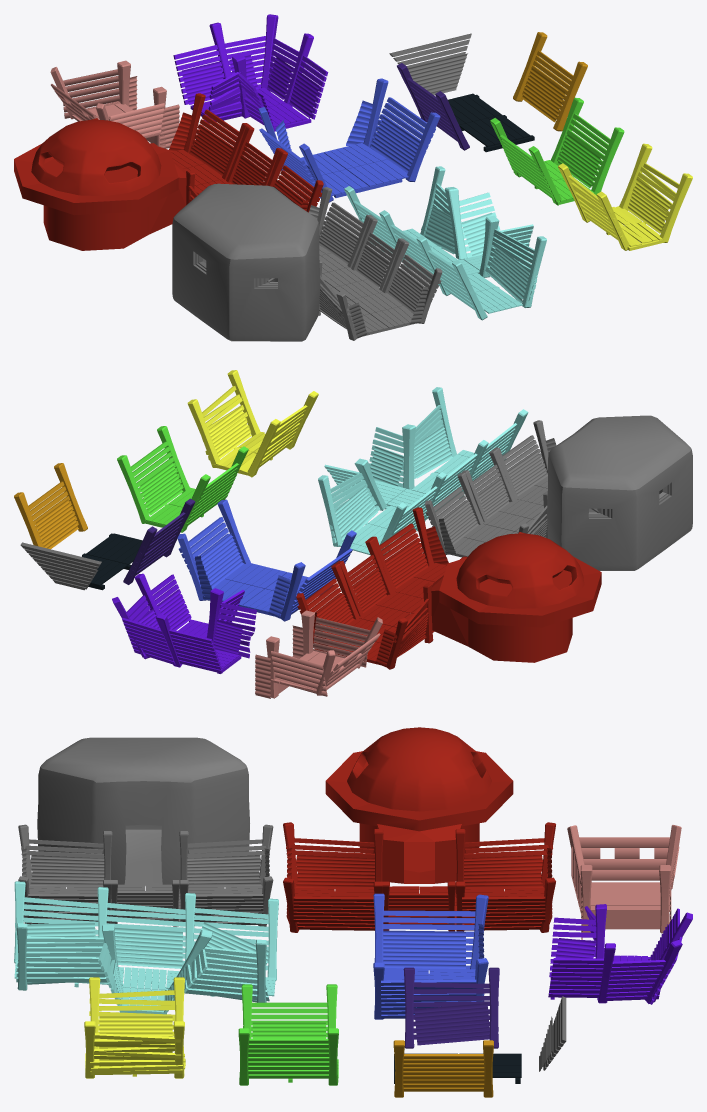
The model's file is Trench set.fbx.
3 views of the same model, one above another, from view 1: azimuth 30°, elevation 25°; view 2: azimuth 150°, elevation 25°; view 3: azimuth 270°, elevation 25° (orthographic). The views are drawn at different scales.
Visible parts, largest first — view 1: Object359, Sphere002, Object173, Object198, Box108, Box019, Plane011, Object204, Plane007, Plane015, Box092, Box088; view 2: Object359, Sphere002, Object173, Object198, Box108, Object204, Box019, Plane011, Plane007, Plane015, Box088, Box092; view 3: Object359, Sphere002, Object173, Box108, Object204, Object198, Box019, Plane011, Box088, Plane007, Plane015, Box092.
Part boxes in pixels (<box>): Object359: <box>172,183,442,341</box>; Sphere002: <box>14,93,323,250</box>; Object173: <box>344,166,546,320</box>; Object198: <box>173,14,328,131</box>; Box108: <box>258,78,440,202</box>; Box019: <box>558,143,692,250</box>; Plane011: <box>490,97,624,205</box>; Object204: <box>50,60,179,148</box>; Plane007: <box>513,32,587,131</box>; Plane015: <box>389,33,471,95</box>; Box092: <box>448,93,534,152</box>; Box088: <box>397,63,469,150</box>; Object359: <box>424,415,692,570</box>; Sphere002: <box>296,507,601,669</box>; Object173: <box>318,387,528,555</box>; Object198: <box>112,573,256,673</box>; Box108: <box>177,499,356,621</box>; Object204: <box>255,610,382,698</box>; Box019: <box>187,370,318,477</box>; Plane011: <box>117,426,248,532</box>; Plane007: <box>14,463,87,549</box>; Plane015: <box>20,542,101,590</box>; Box088: <box>123,498,195,584</box>; Box092: <box>82,533,142,590</box>; Object359: <box>18,737,273,926</box>; Sphere002: <box>283,727,555,932</box>; Object173: <box>14,881,278,1014</box>; Box108: <box>373,893,488,1019</box>; Object204: <box>567,825,681,939</box>; Object198: <box>548,904,692,1004</box>; Box019: <box>84,977,185,1078</box>; Plane011: <box>238,984,338,1085</box>; Box088: <box>403,967,499,1048</box>; Plane007: <box>393,1040,493,1097</box>; Plane015: <box>539,996,566,1071</box>; Box092: <box>394,1053,521,1083</box>.
Bounding box in the file's own units: 2295 × 506 × 2215.
